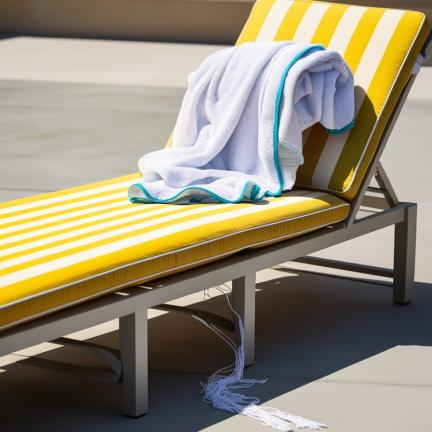occupied chair: (0, 0, 432, 416), (216, 318, 224, 323)
